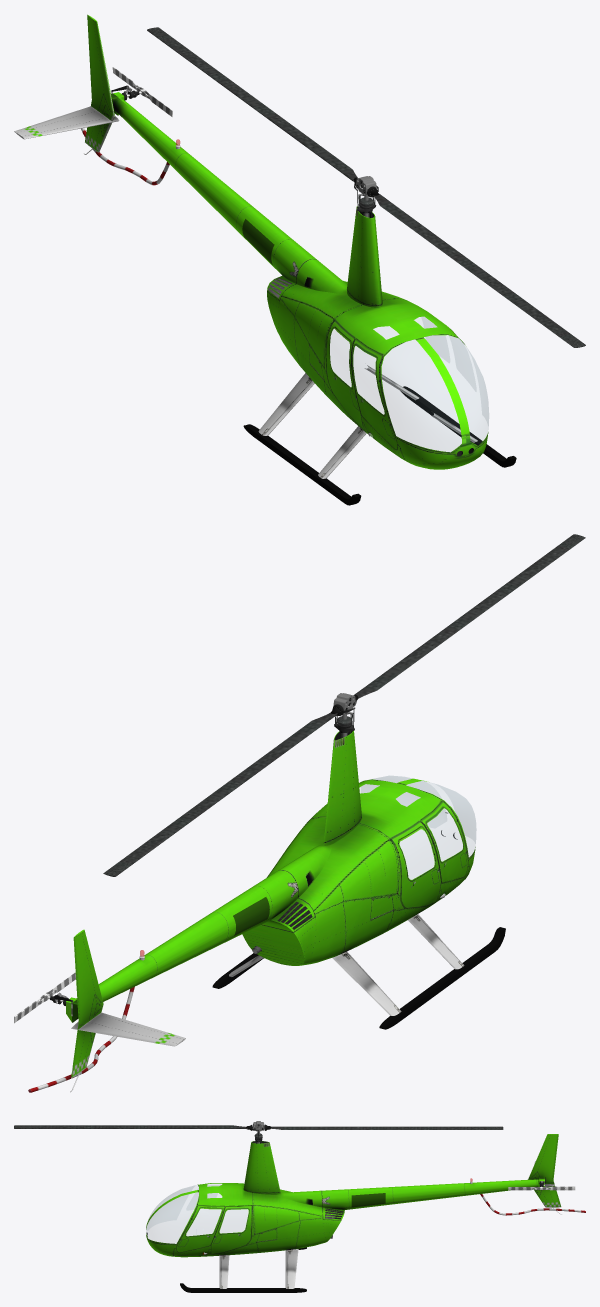
Rendered from Lemon.gltf.
3 views of the same model, one above another, from view 1: azimuth 30°, elevation 25°; view 2: azimuth 150°, elevation 25°; view 3: azimuth 270°, elevation 25° (orthographic). The views are drawn at different scales.
Visible parts, largest first — view 1: Exterior, Spin_0; view 2: Exterior, Spin_0; view 3: Exterior, Spin_0, Spin_1.
Part boxes in pixels (x1,y1,x2,y2): Exterior: [14, 14, 516, 505]; Spin_0: [147, 27, 585, 347]; Exterior: [28, 731, 505, 1092]; Spin_0: [103, 534, 585, 876]; Exterior: [146, 1134, 585, 1292]; Spin_0: [14, 1121, 503, 1143]; Spin_1: [508, 1184, 575, 1190].
Bounding box in the file's own units: 2.39 × 3.36 × 11.78.
Materials: 10 (10 with a texture image).
